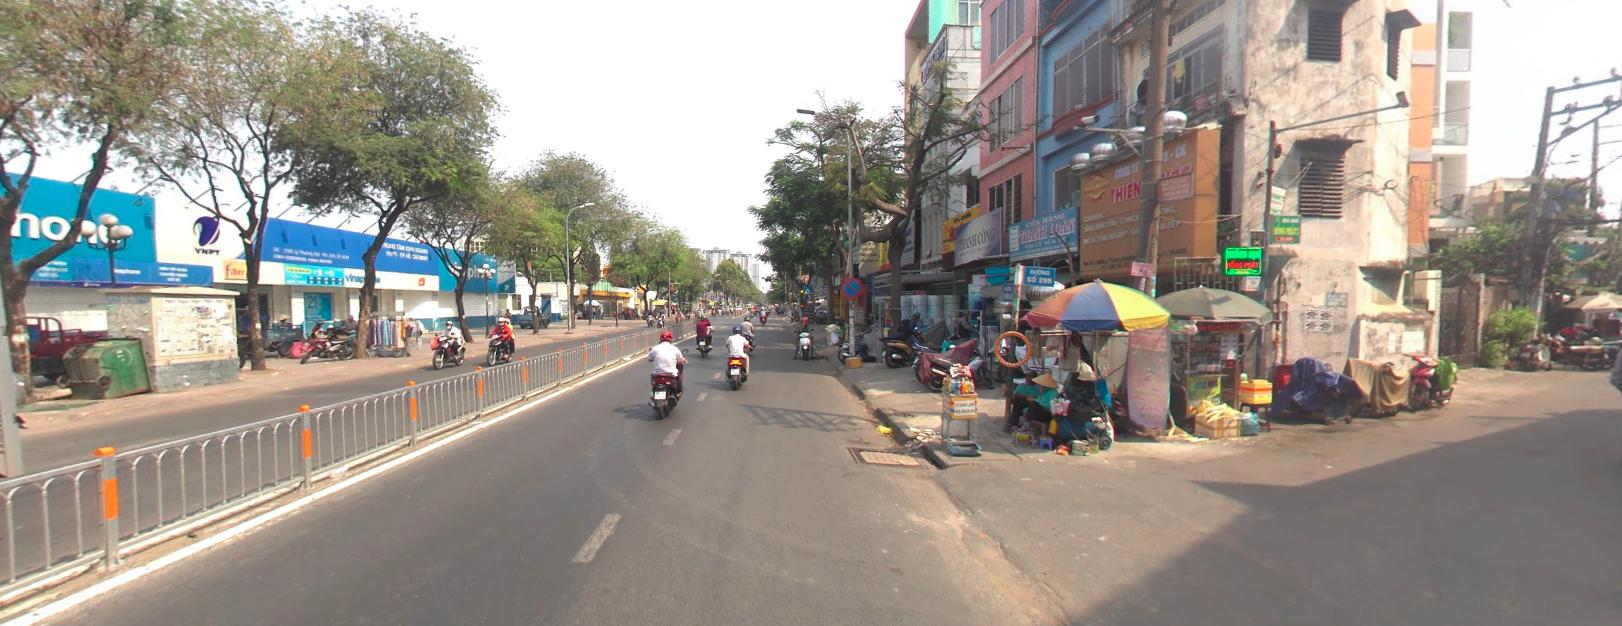Cam dung va do: (839, 273, 866, 300)
